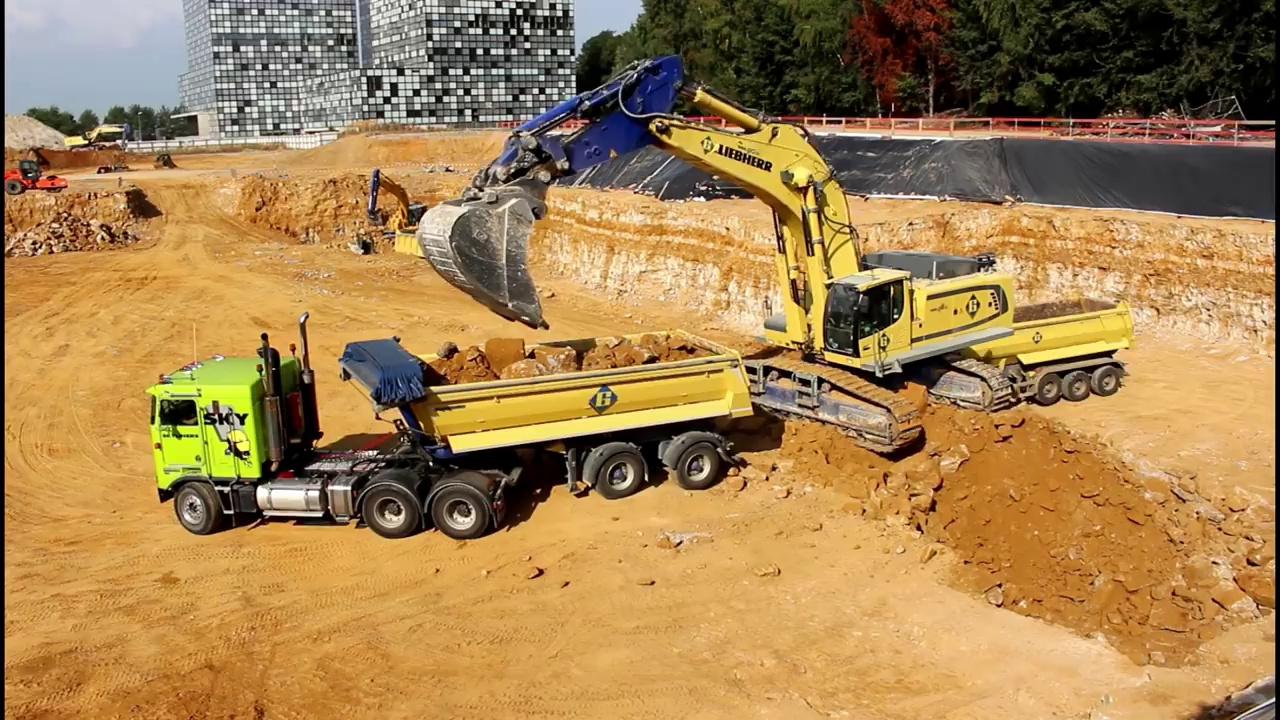compactor: (5, 158, 71, 199)
excavator: (414, 51, 1026, 455), (350, 164, 456, 241), (52, 119, 135, 161)
truck: (143, 307, 760, 547), (778, 296, 1135, 413)
